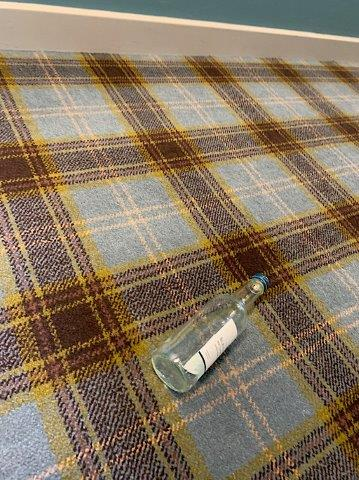botolkaca: (153, 276, 268, 390)
